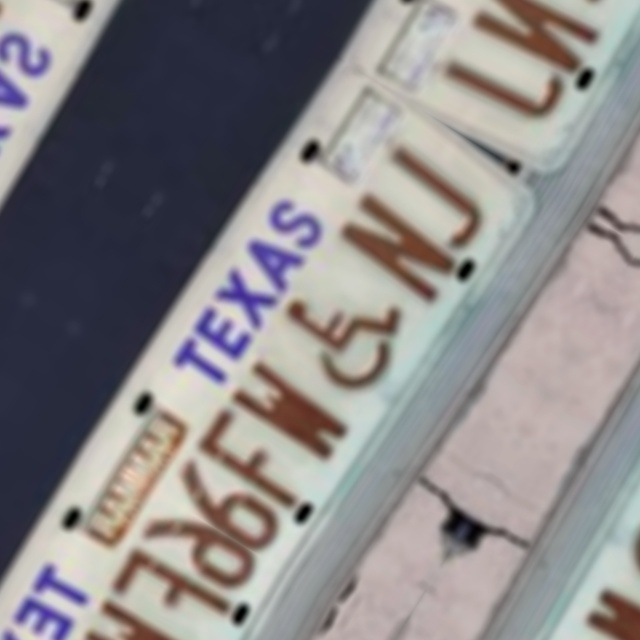ISA: (266, 252, 424, 406), (617, 471, 640, 625), (506, 0, 640, 21)
